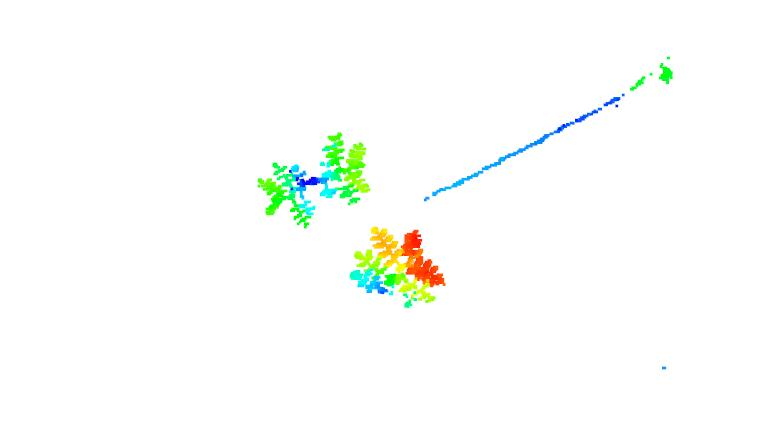chickpea: (256, 131, 372, 227), (354, 226, 444, 306)
